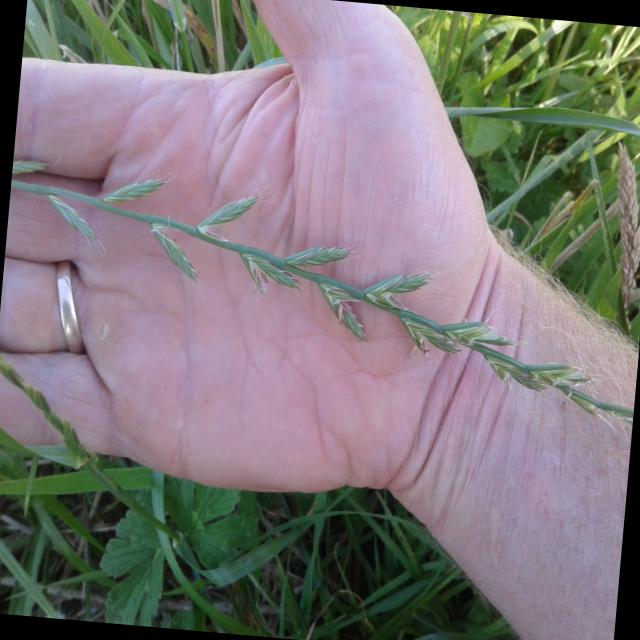Lolium: (0, 155, 640, 420)
